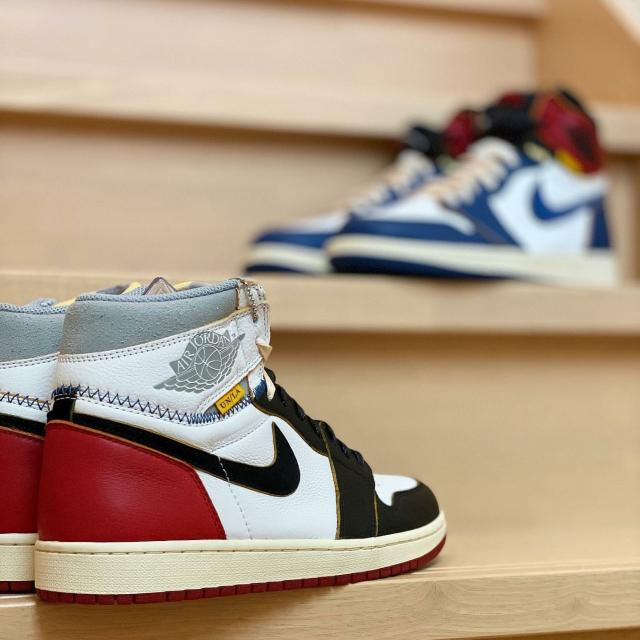shoes: (48, 288, 464, 612), (242, 79, 624, 287)
